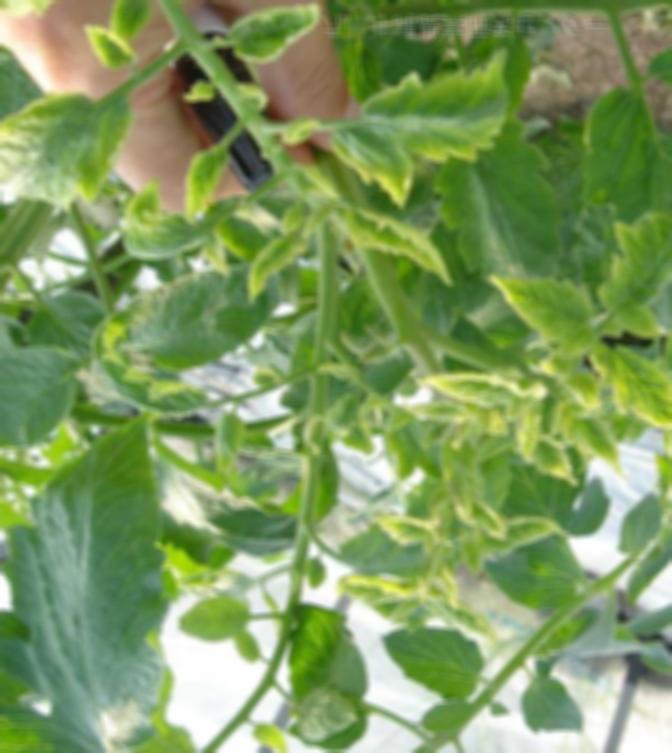Tomato leaf yellow virus: (326, 44, 536, 200), (0, 70, 157, 209), (304, 179, 461, 294), (483, 270, 609, 357), (123, 200, 255, 271), (600, 205, 672, 327), (596, 344, 672, 431), (226, 0, 322, 68), (411, 360, 532, 412), (368, 502, 440, 555)
